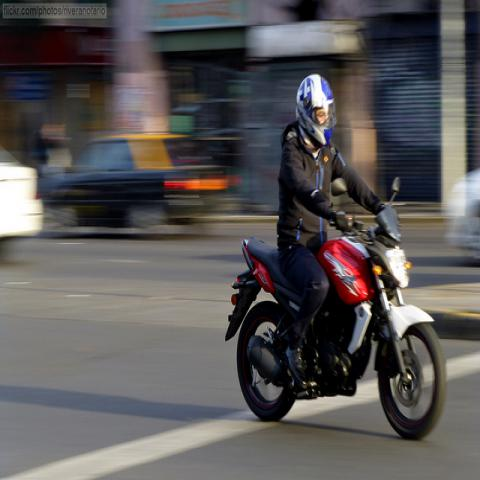car: (38, 132, 235, 229), (0, 146, 44, 240), (444, 167, 479, 250)
motorcycle: (222, 176, 448, 438)
